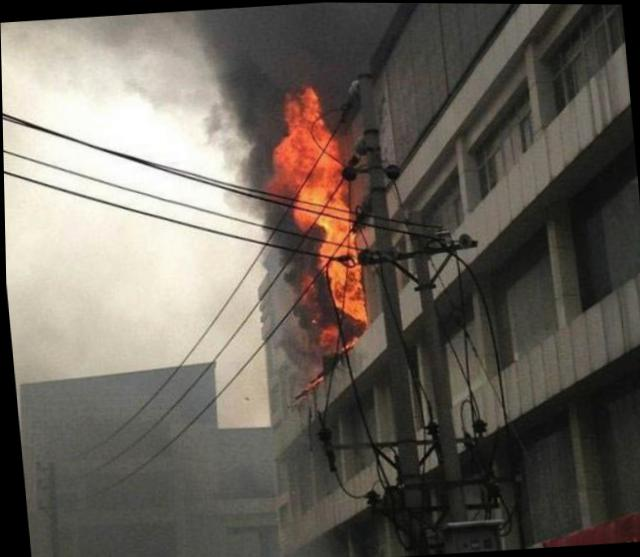fire: (240, 81, 369, 386)
